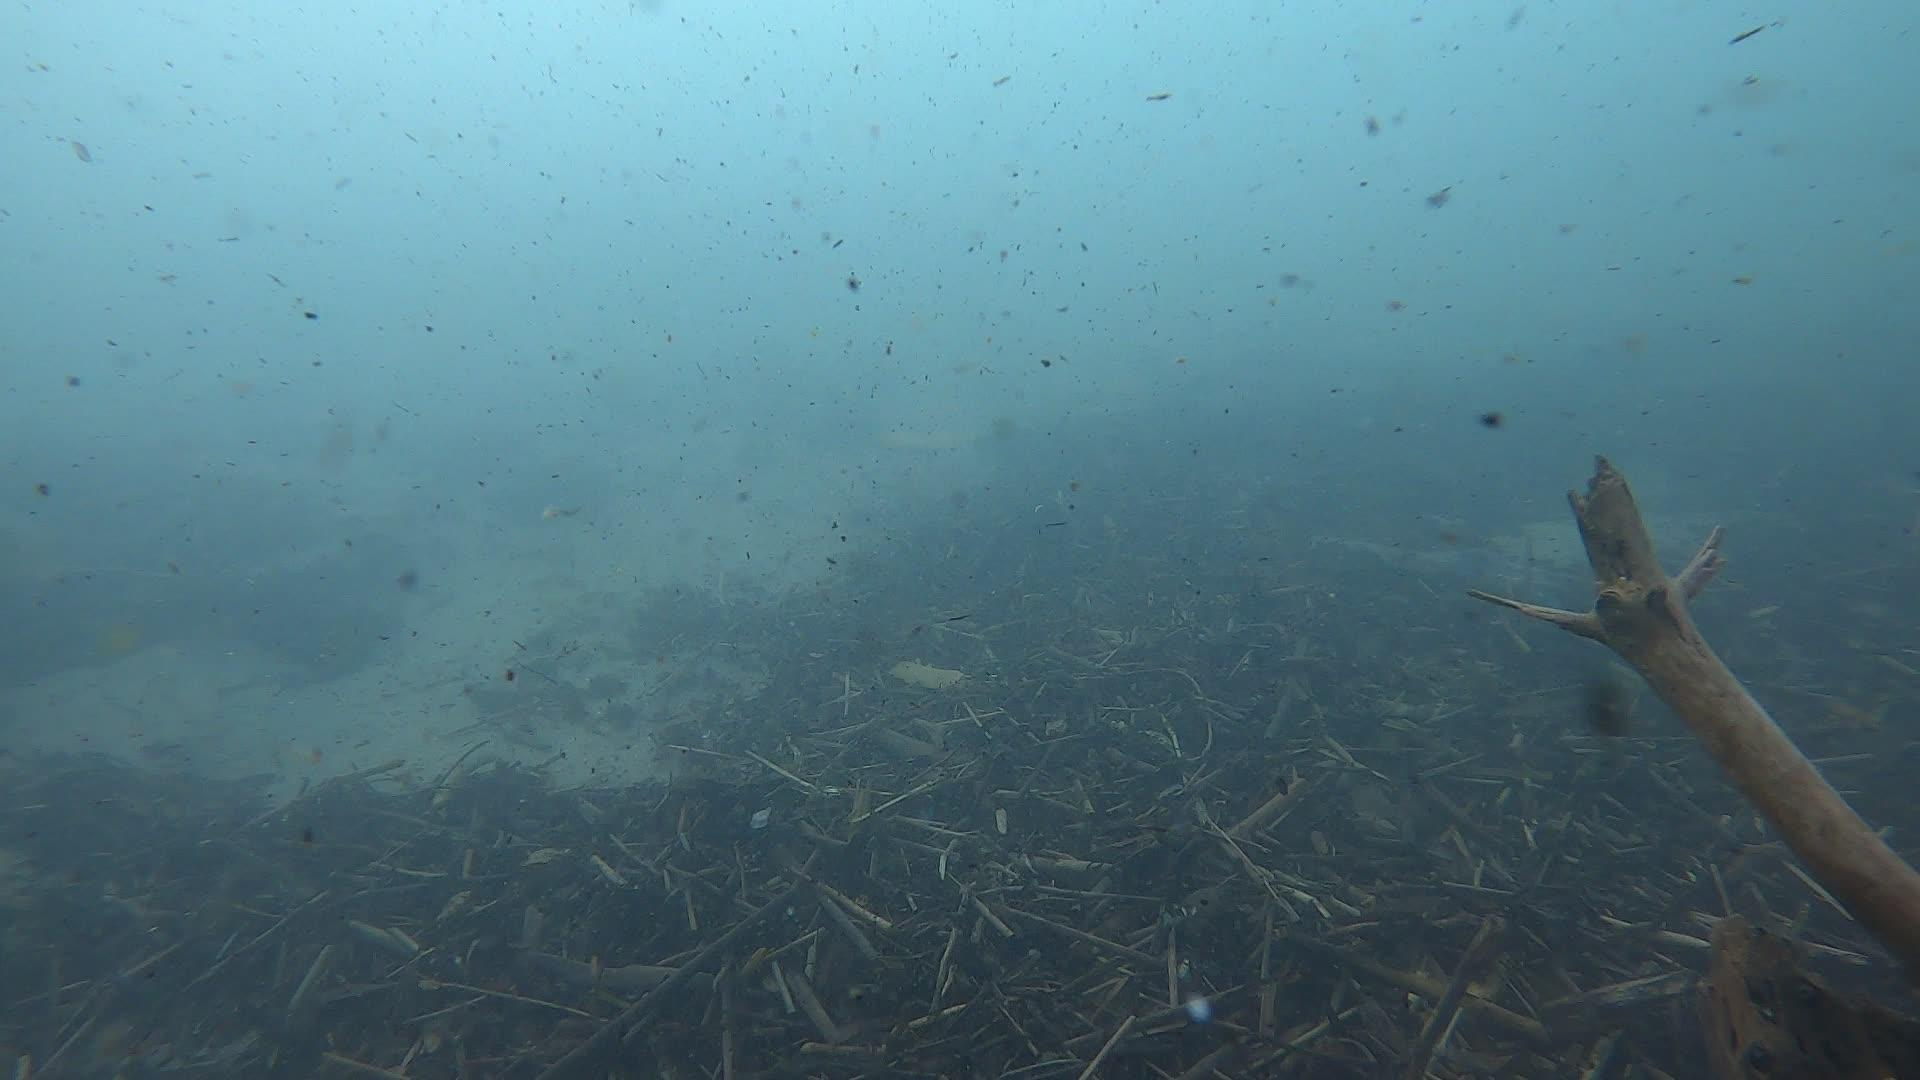wood: (1465, 448, 1920, 978)
